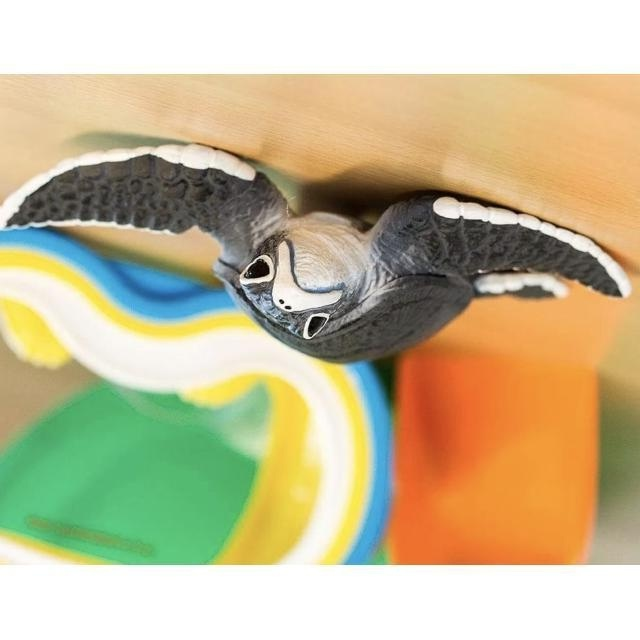turtle: (1, 143, 631, 365)
